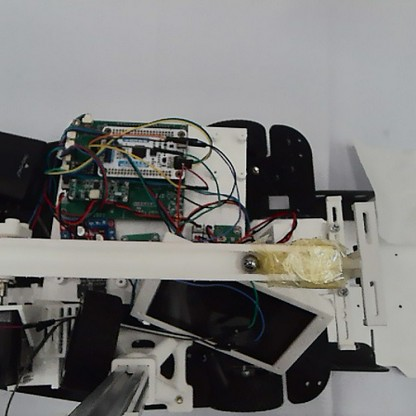ironball: (239, 252, 260, 272)
